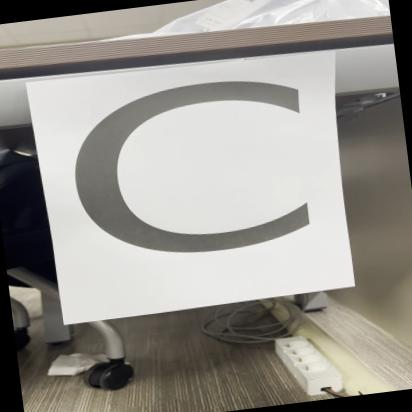seat: (26, 49, 362, 320)
